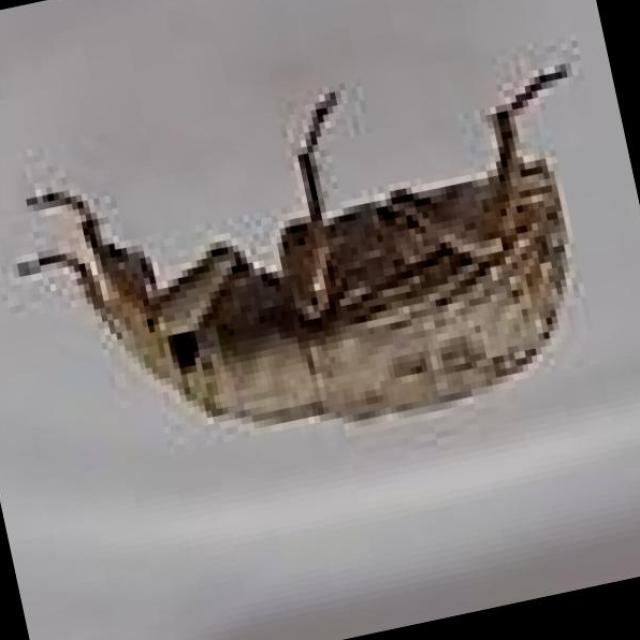ricebug: (25, 68, 570, 428)
